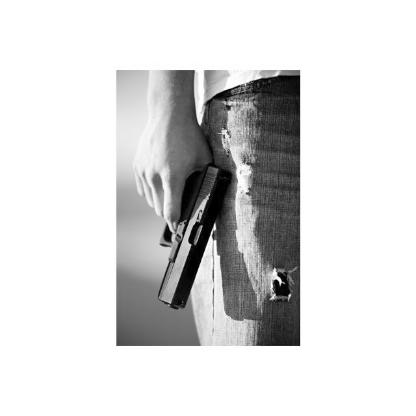gun: (137, 160, 231, 308)
